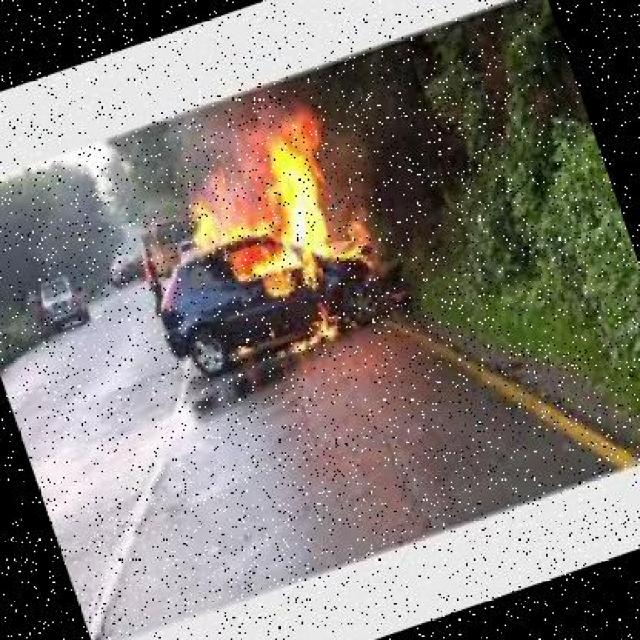fire: (160, 95, 391, 337)
